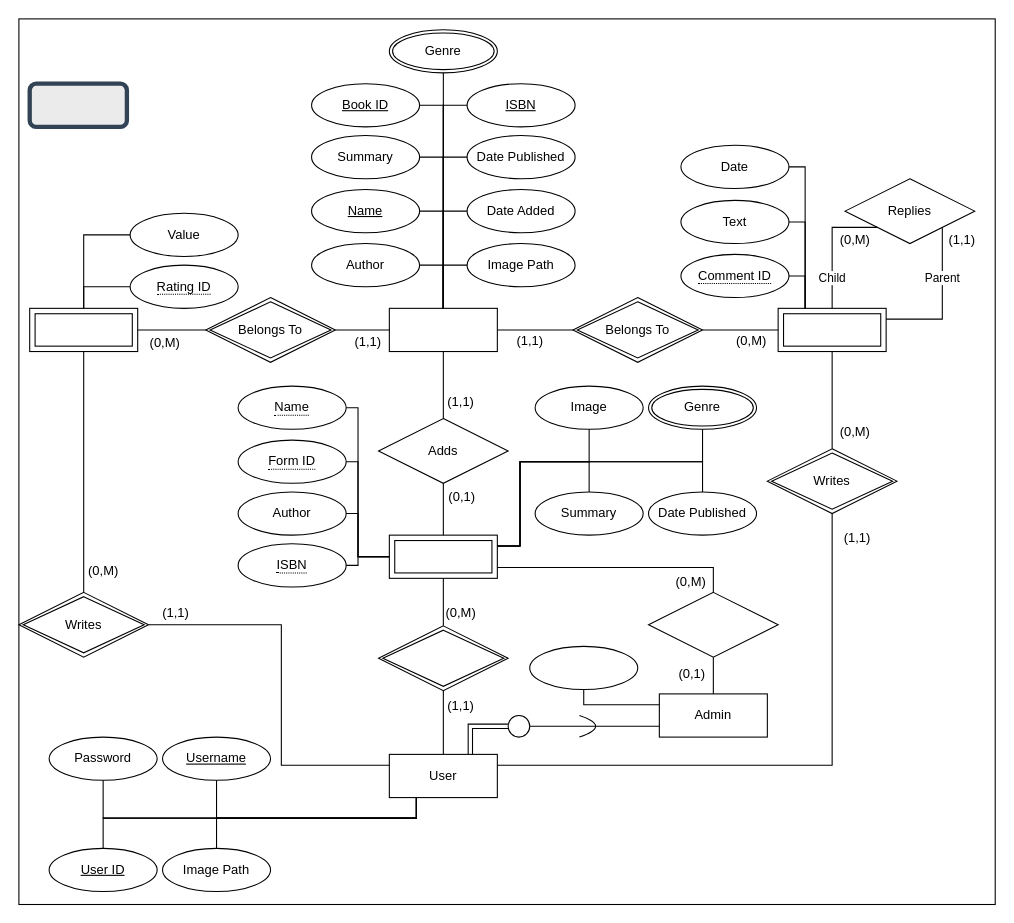
Image size: 1014x923. Some labels were removed from this diagram. Here are the shapes that lost their labels. From the top down, the centre of each, then its label:
the point at 78,105: Look-Across Notation
the point at 83,329: Rating
the point at 442,329: Book
the point at 831,329: Comment
the point at 442,556: Form
the point at 712,624: Reviews
the point at 442,658: Requests
the point at 583,667: Admin ID
